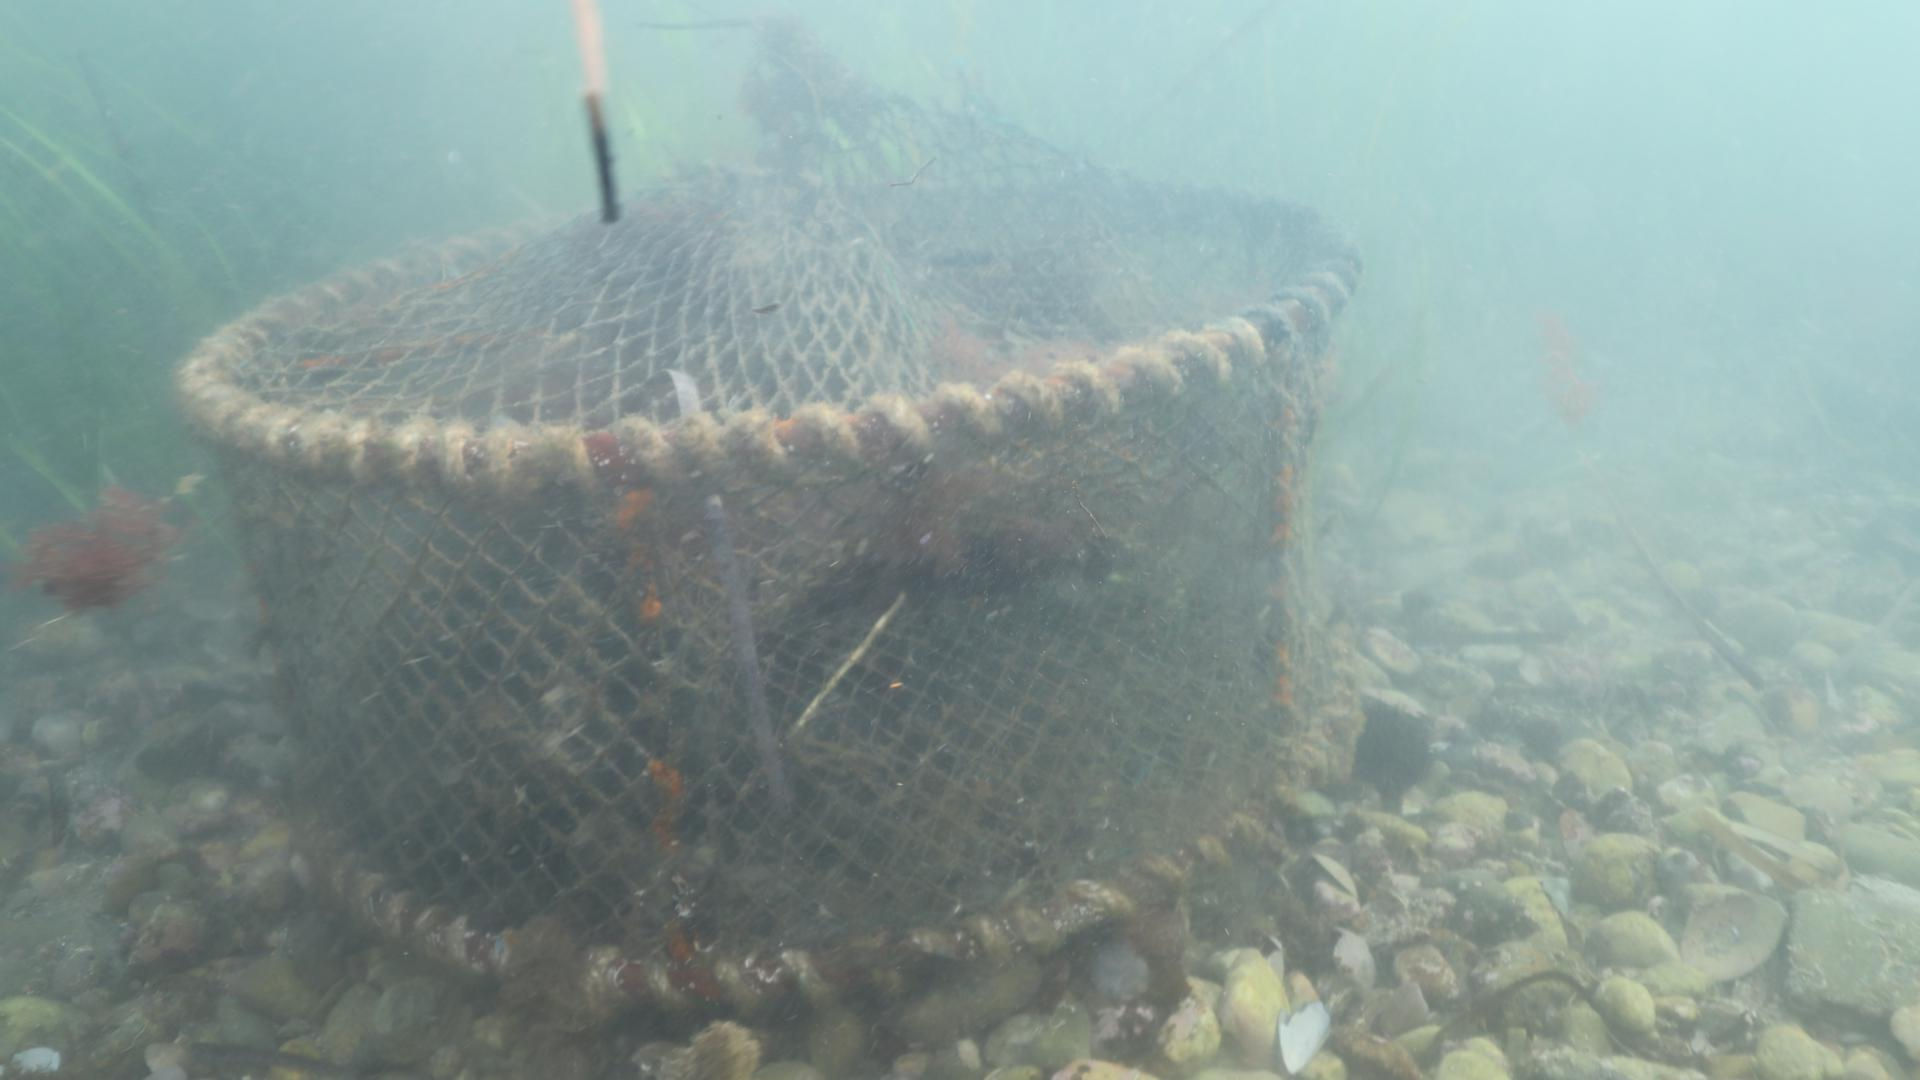circular fish trap: (177, 0, 1364, 1006)
